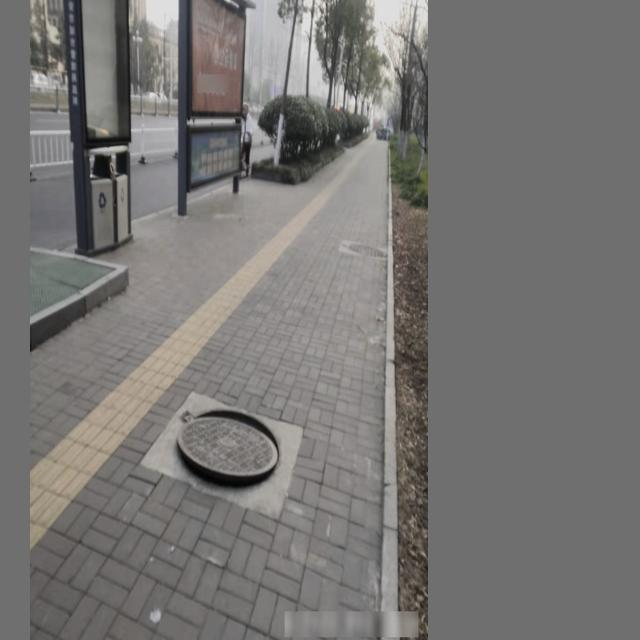uncovered: (174, 406, 283, 494)
